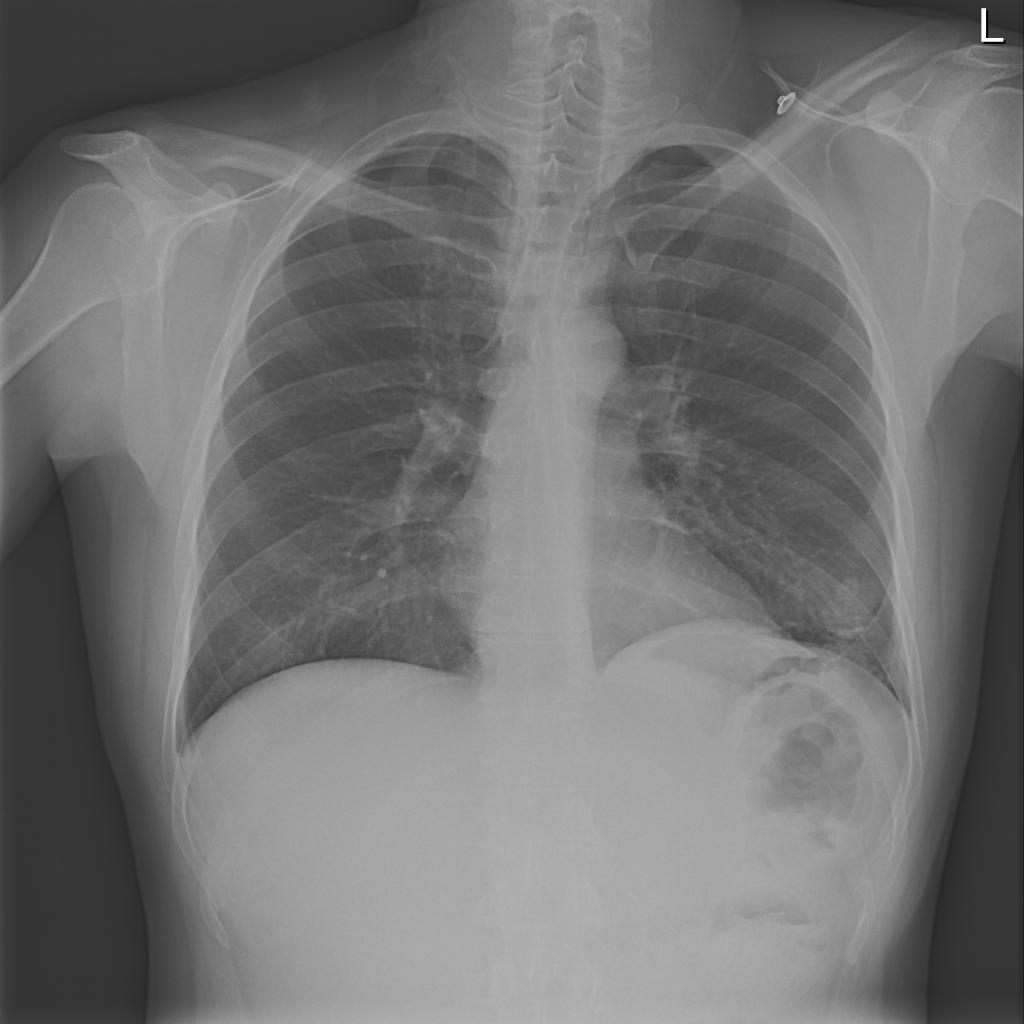Nodule: (293, 196, 321, 220)
